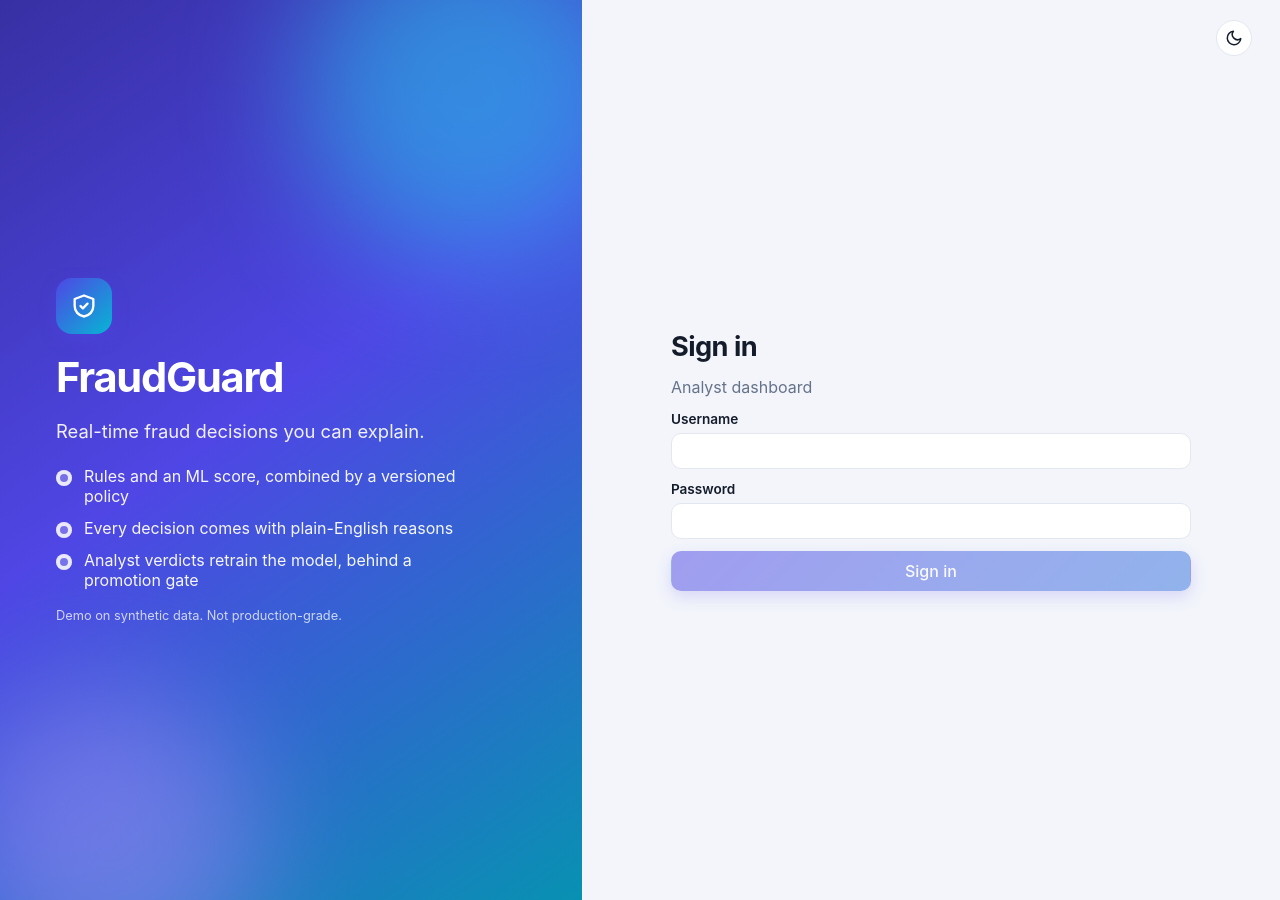
login and session handling › rejects a wrong password with a clear message and stays on the login page
Type "analyst" into the field labelled "Username" at (931, 450), box top-left (671, 432), bottom-right (1191, 468)
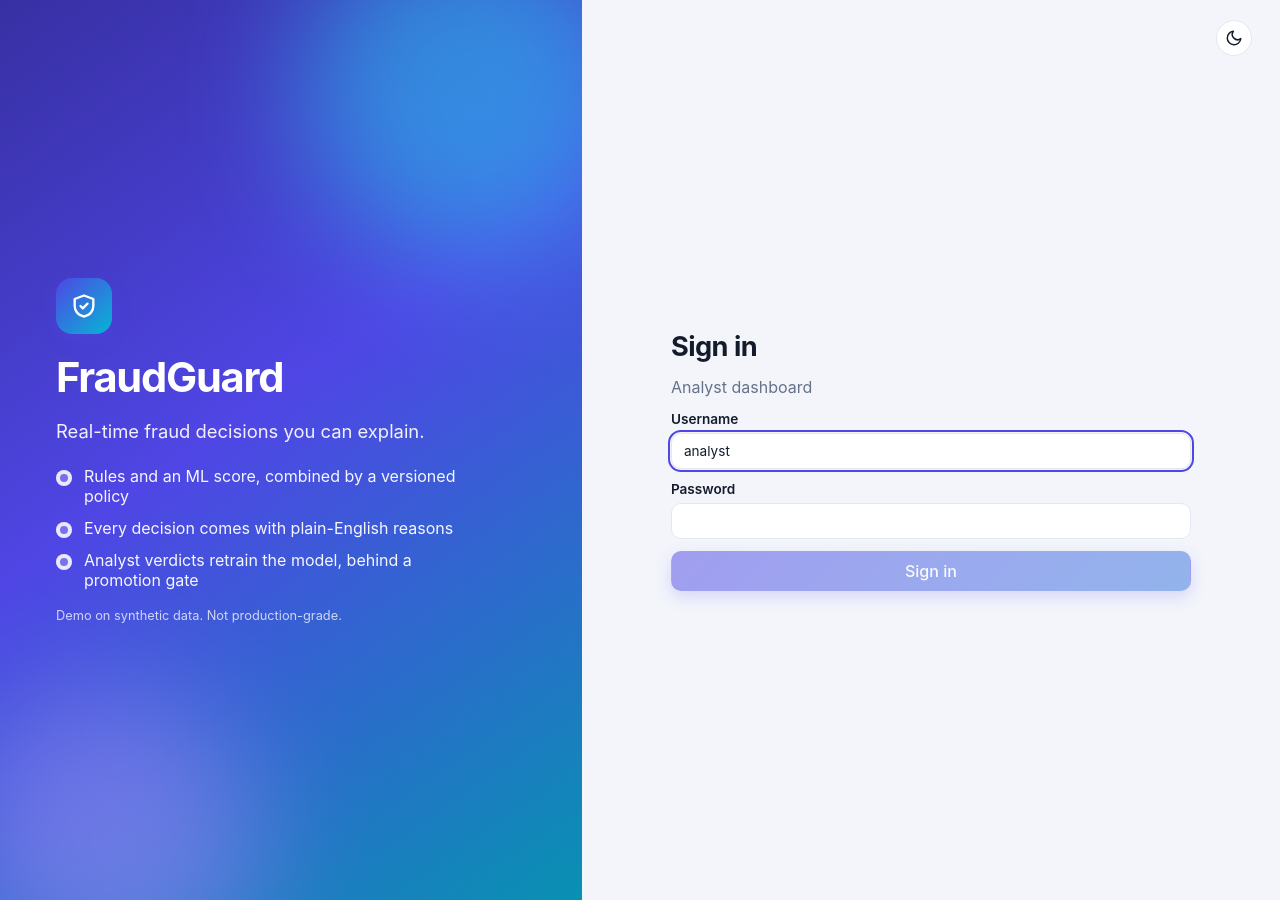
Type "wrong" into the password field labelled "Password" at (931, 520), box top-left (671, 502), bottom-right (1191, 538)
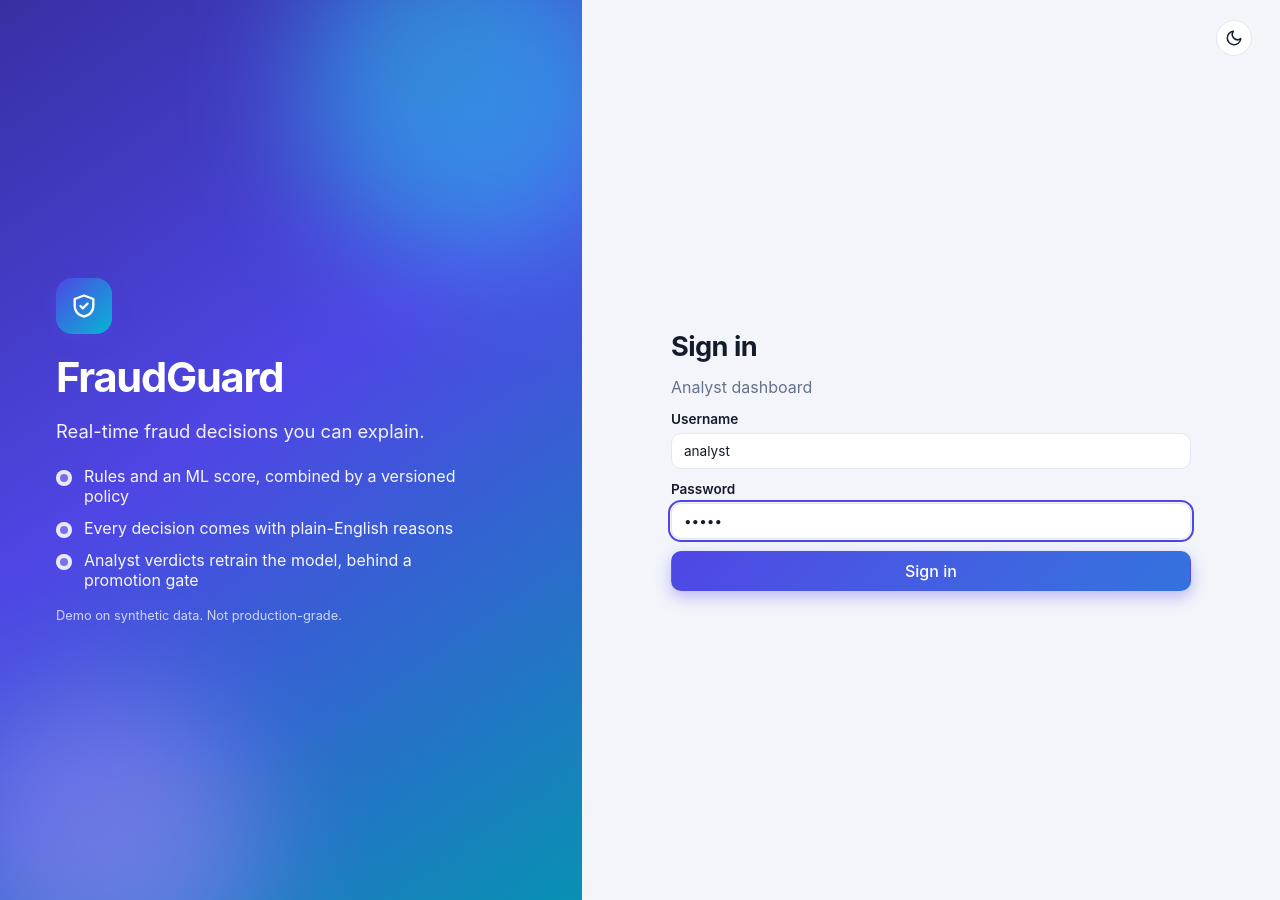
Click the button "Sign in" at (931, 570), box top-left (671, 550), bottom-right (1191, 590)
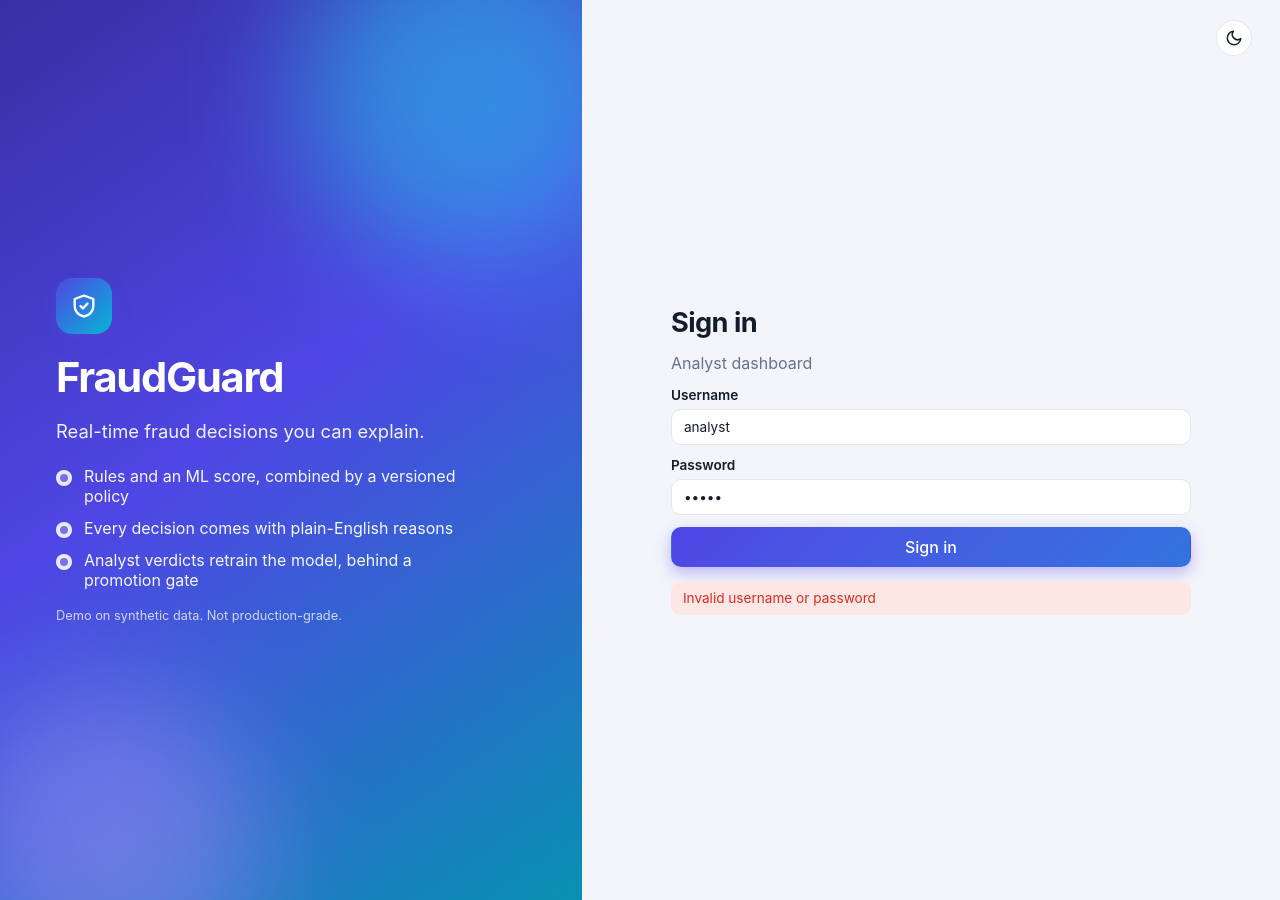
Expected: the text "Invalid username or password" is shown, top-left (671, 580), bottom-right (1191, 614)
